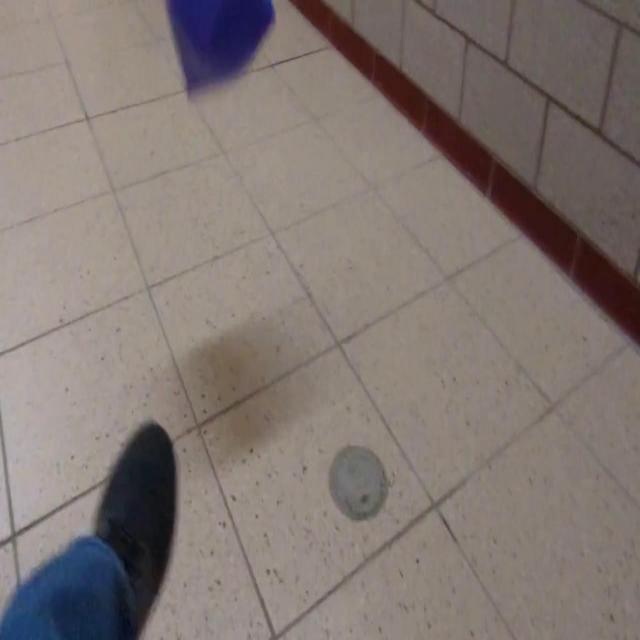frc_cube: (163, 0, 275, 97)
